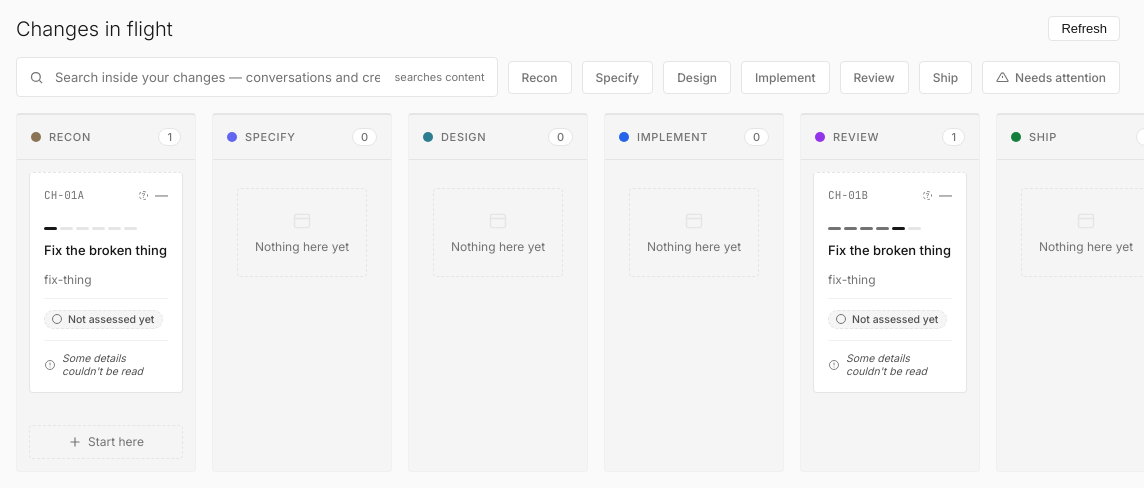
<Board> — enriched-feed integration seam (WP-007) › S-7 / UC-6 — a filter narrows the SAME six-lane board; clearing it restores the full board
expect the text "CH-01A" is shown: met, box [44,188,84,202]
expect the text "CH-01B" is shown: met, box [828,188,868,202]
// Type a query → the board narrows to the search result, in the SAME layout.
Replace the text in the search field with "alpha". click: (219, 77)
box: [53,68,386,86]
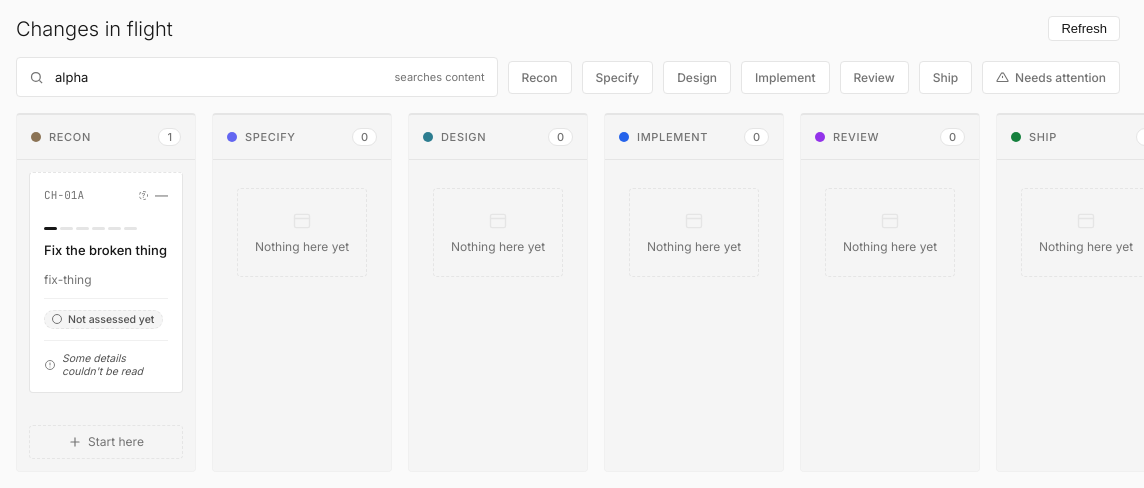
expect the text "CH-01A" is shown: met, box [44,188,84,202]
expect the link "CH-01B" is gone: met
// Clear the query → the full board is restored.
Clear the search field. click: (219, 77)
box: [53,68,386,86]
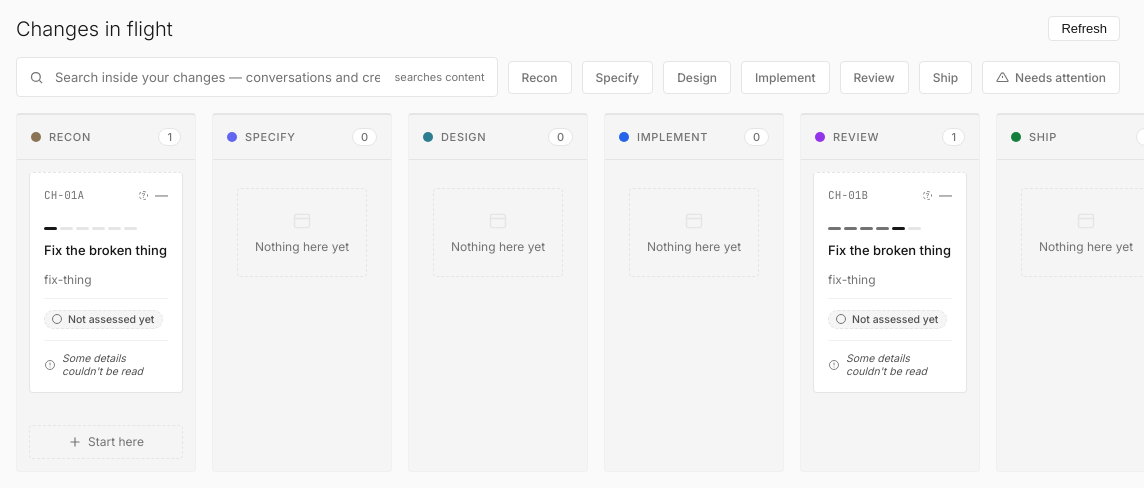
expect the text "CH-01B" is shown: met, box [828,188,868,202]
